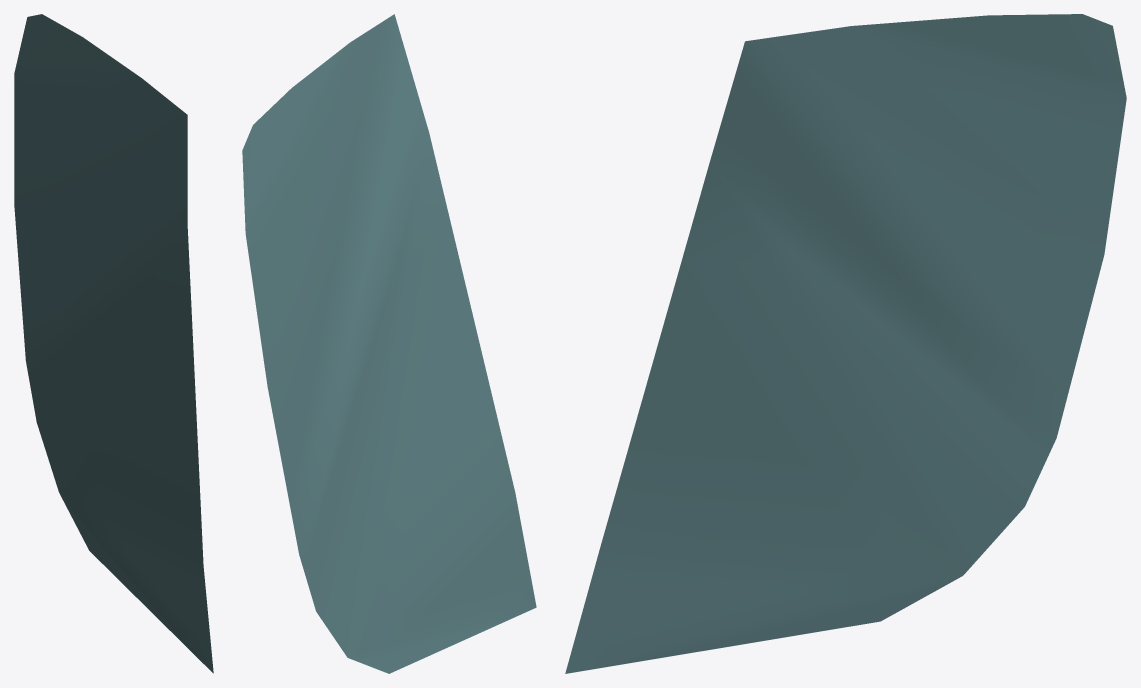
Rendered from VAN_2_Door_Window_RR_Tessellate.fbx.
3 views of the same model, side by side, from view 1: azimuth 30°, elevation 25°; view 2: azimuth 150°, elevation 25°; view 3: azimuth 270°, elevation 25° (orthographic). The views are drawn at different scales.
Parts seen in each view (by area): view 1: VAN_2_Door_Window_RR_Tessellate; view 2: VAN_2_Door_Window_RR_Tessellate; view 3: VAN_2_Door_Window_RR_Tessellate.
Part boxes in pixels (x1,y1,x2,y2): VAN_2_Door_Window_RR_Tessellate: (14,14,213,673); VAN_2_Door_Window_RR_Tessellate: (242,14,536,673); VAN_2_Door_Window_RR_Tessellate: (565,14,1126,673).
Bounding box in the file's own units: 65.1 × 677 × 508.
